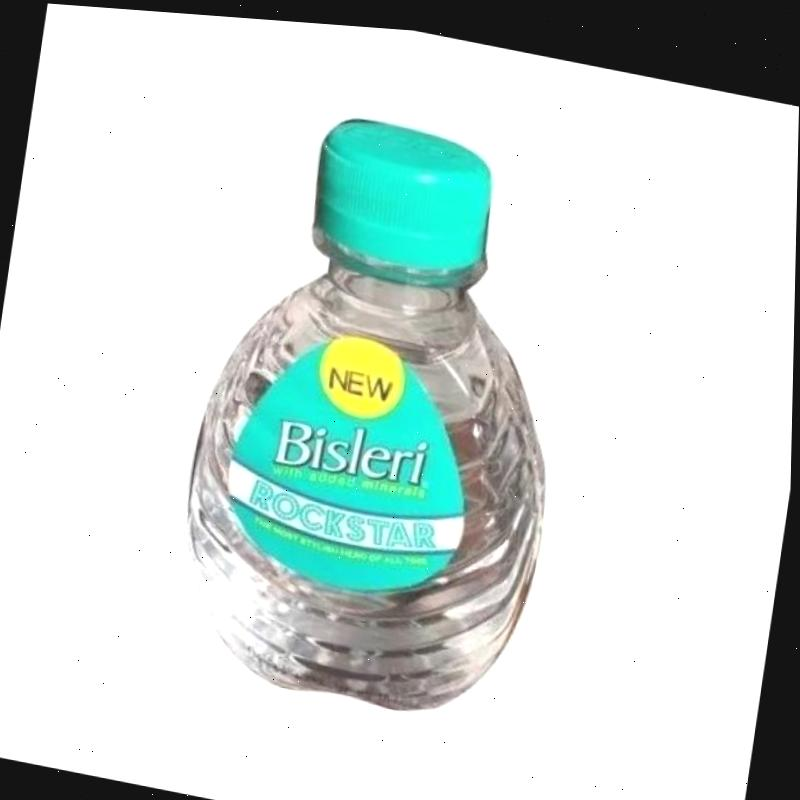botella: (160, 89, 601, 735)
